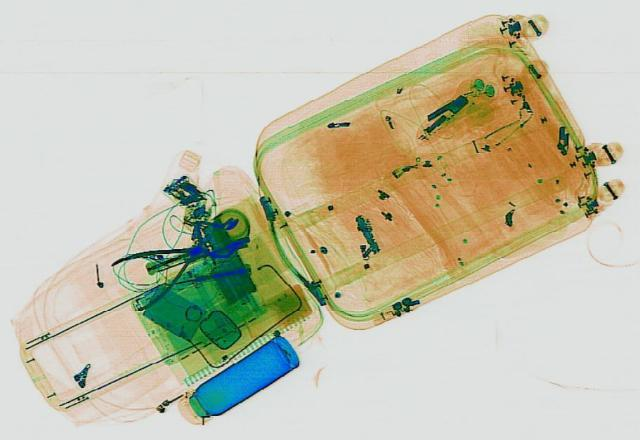Pliers: (95, 227, 241, 311)
